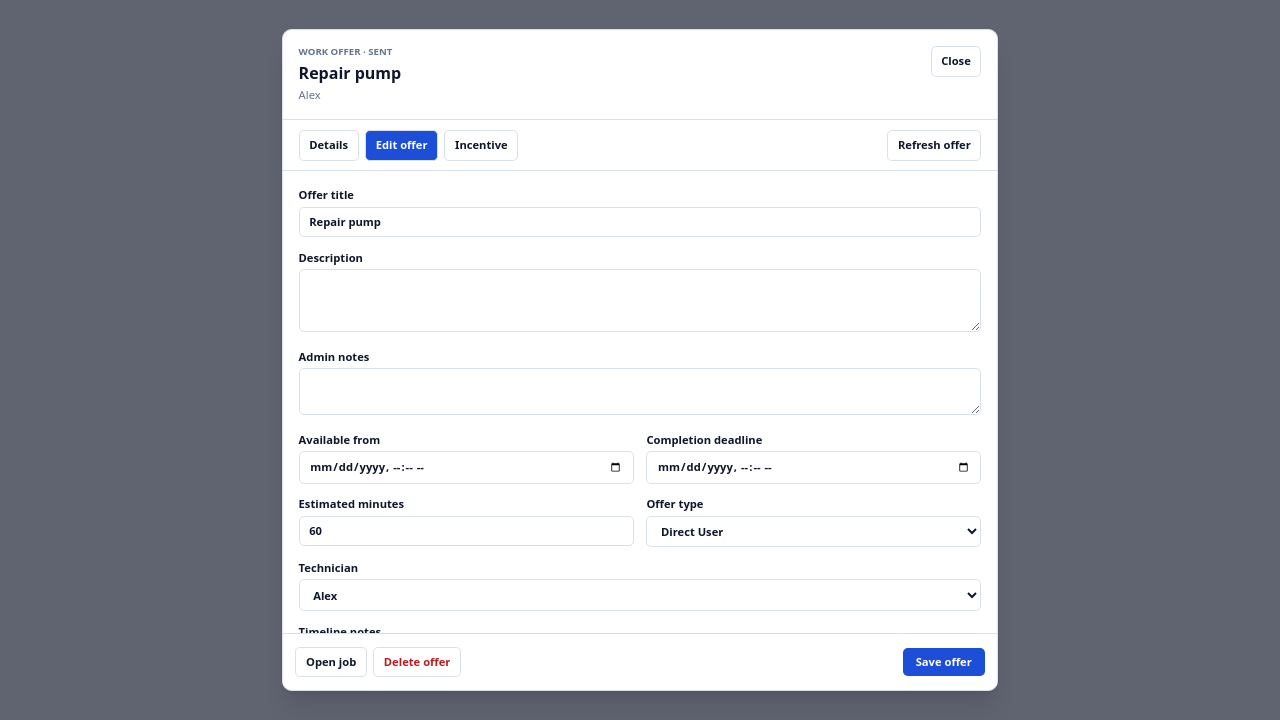
failed edits retain the entered form and leave the offer open for refresh or retry
The image size is (1280, 720).
Replace the text in the field labelled "Offer title" with "Unsaved change" at (640,222), box left=299, top=206, right=981, bottom=237
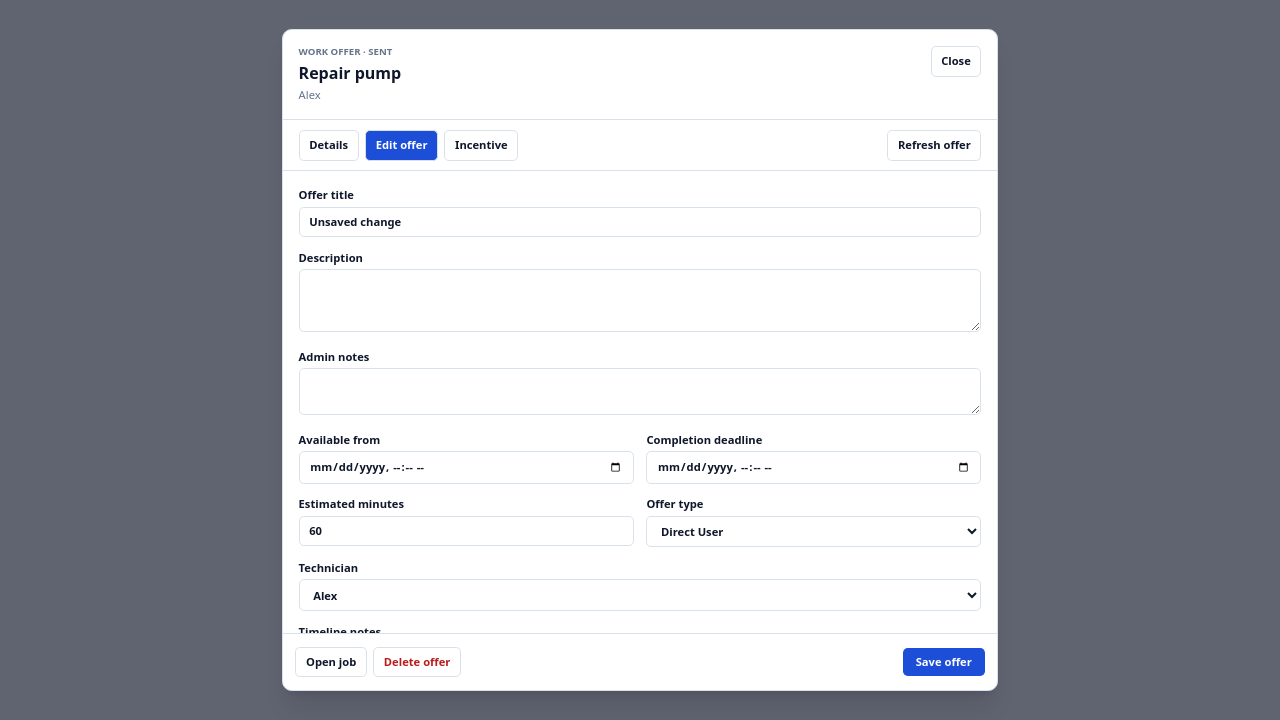
Click the button "Save offer".
click(944, 662)  # box left=903, top=648, right=985, bottom=676
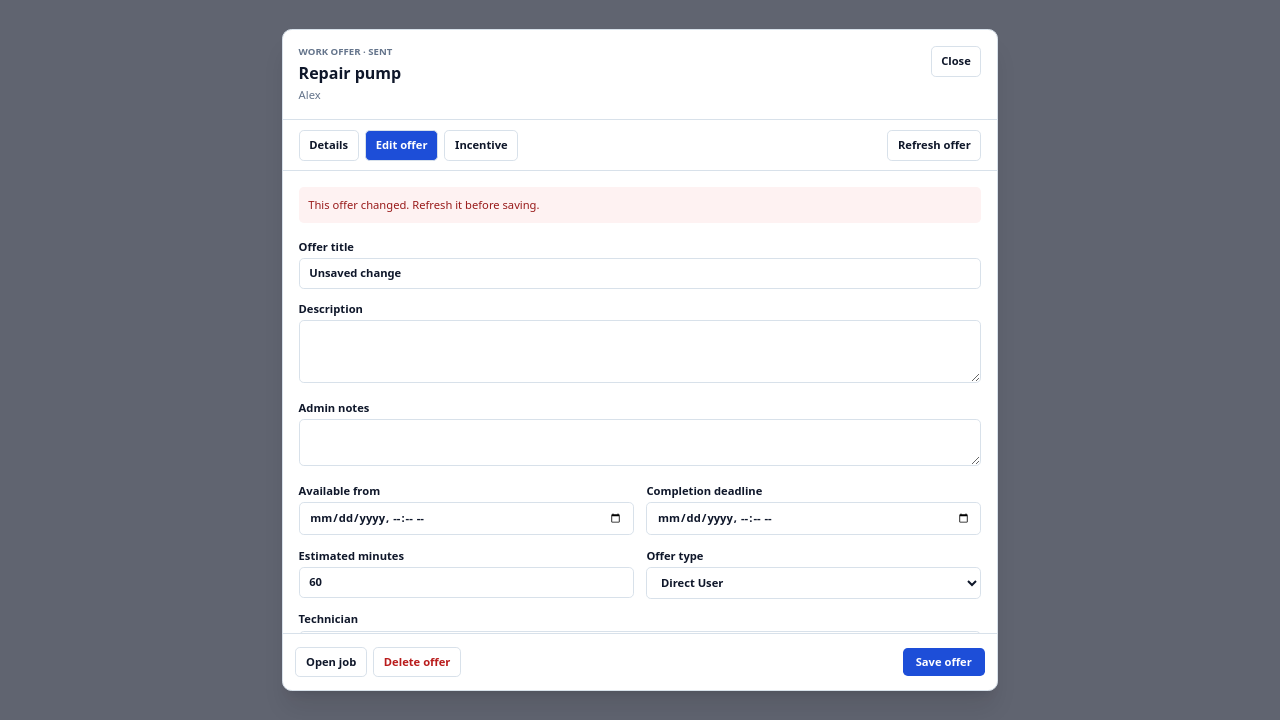
expect the message shows "This offer changed": met, box left=308, top=197, right=540, bottom=212
